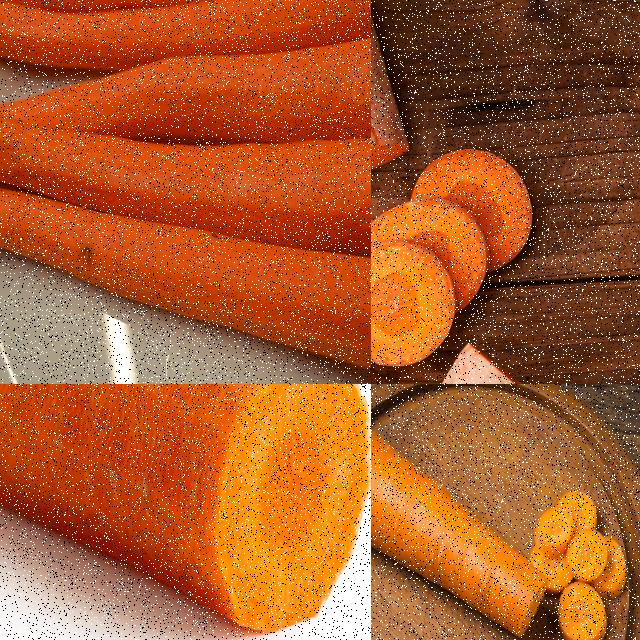carrot: (0, 384, 370, 638), (0, 177, 370, 383), (0, 105, 370, 261), (371, 384, 552, 639), (371, 146, 563, 383), (0, 31, 370, 122), (0, 0, 370, 70), (526, 489, 632, 639)
